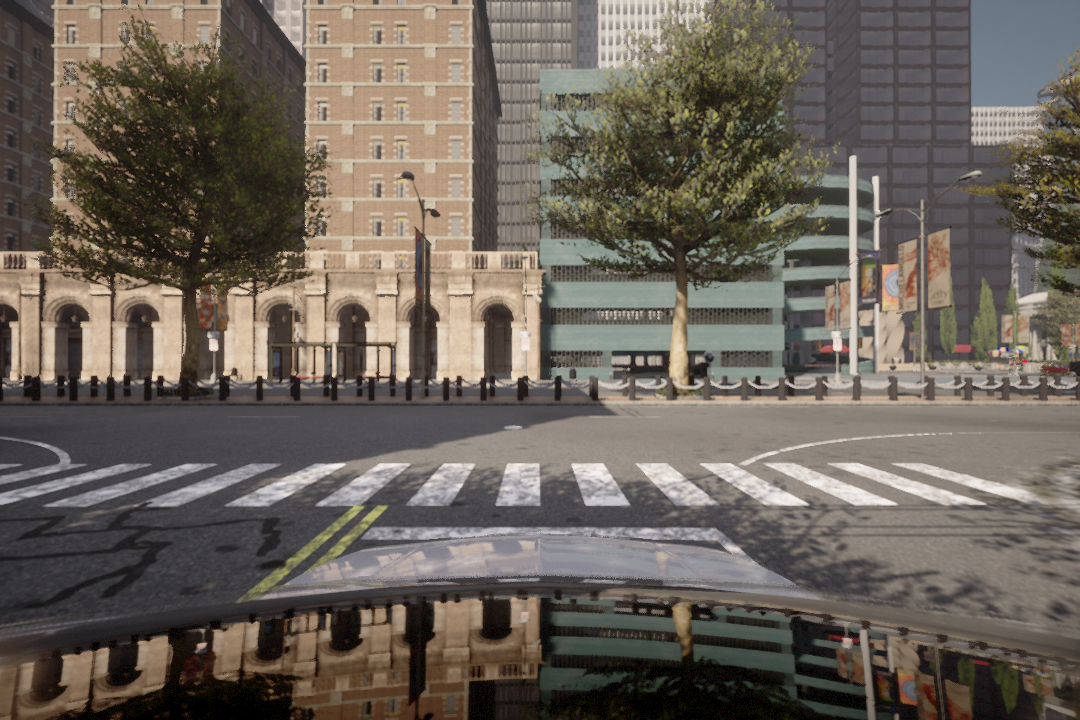walkside: (4, 459, 1065, 517)
